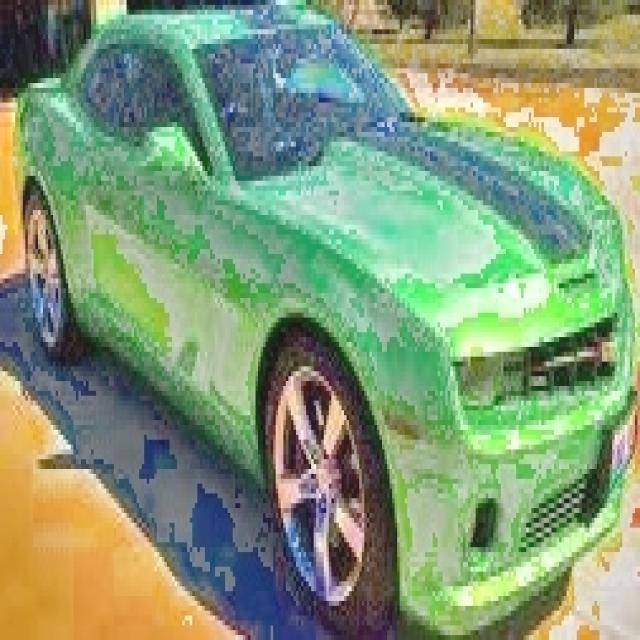green: (12, 10, 638, 625)
